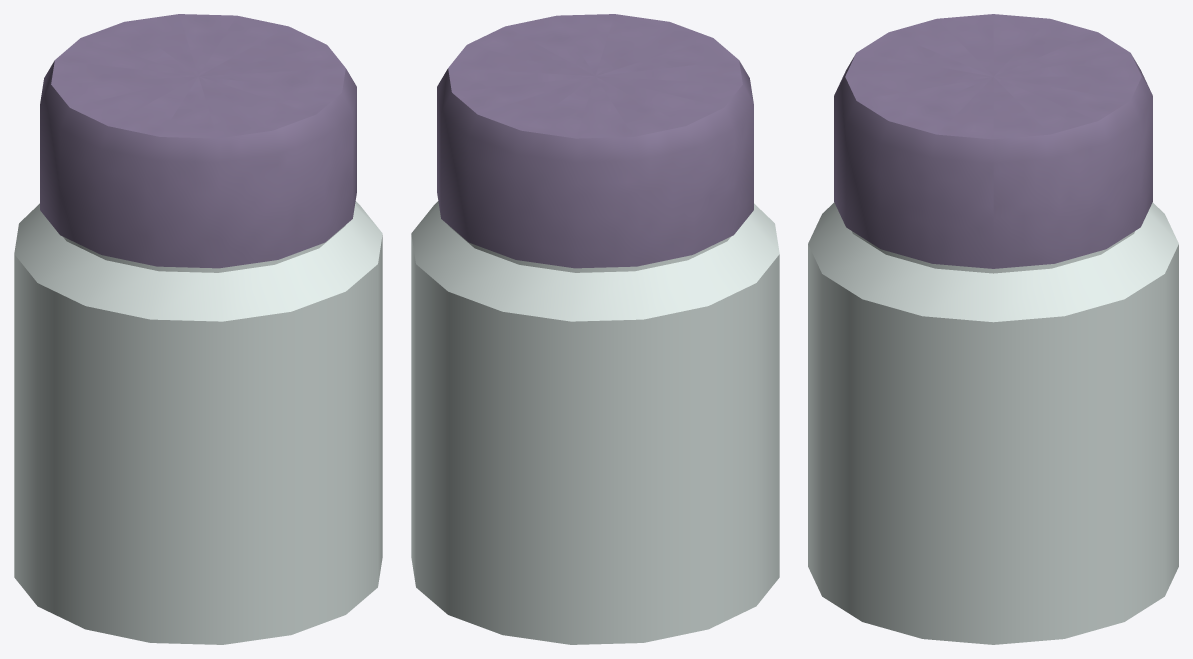
File: SM_Jar_S_Plum.fbx
The picture shows the model from 3 angles, left to right: view 1: azimuth 30°, elevation 25°; view 2: azimuth 150°, elevation 25°; view 3: azimuth 270°, elevation 25°; orthographic projection.
Parts seen in each view (by area): view 1: SM_Jar_S_Plum; view 2: SM_Jar_S_Plum; view 3: SM_Jar_S_Plum.
Part boxes in pixels (x1,y1,x2,y2): SM_Jar_S_Plum: (14, 14, 382, 644); SM_Jar_S_Plum: (411, 14, 779, 644); SM_Jar_S_Plum: (808, 14, 1178, 644).
Size of the model in its own units: 0.07 by 0.102 by 0.07.
Materials: 3 (3 with a texture image).
